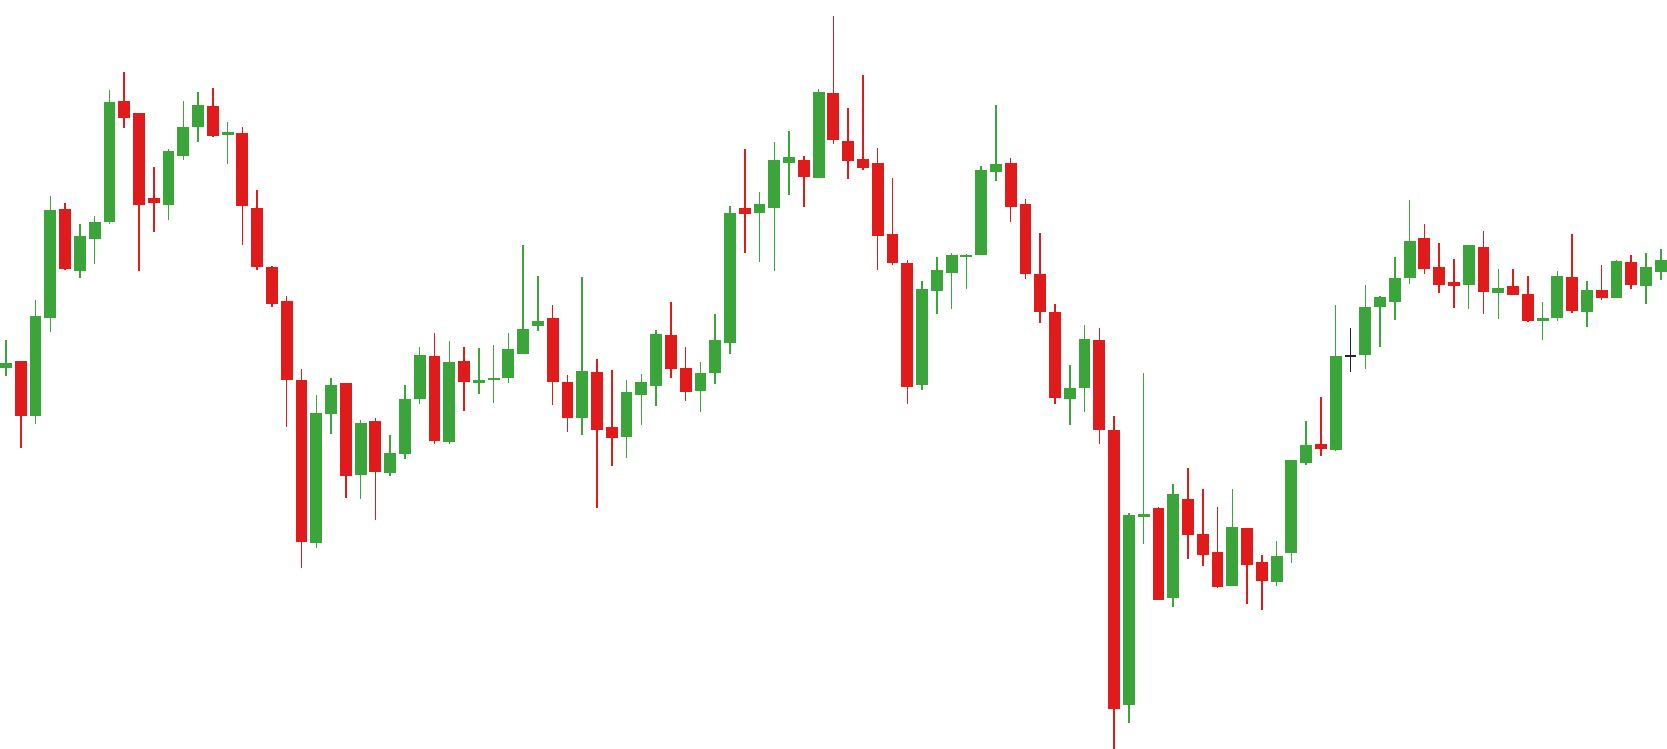buy: (13, 206, 323, 565), (426, 335, 606, 507)
